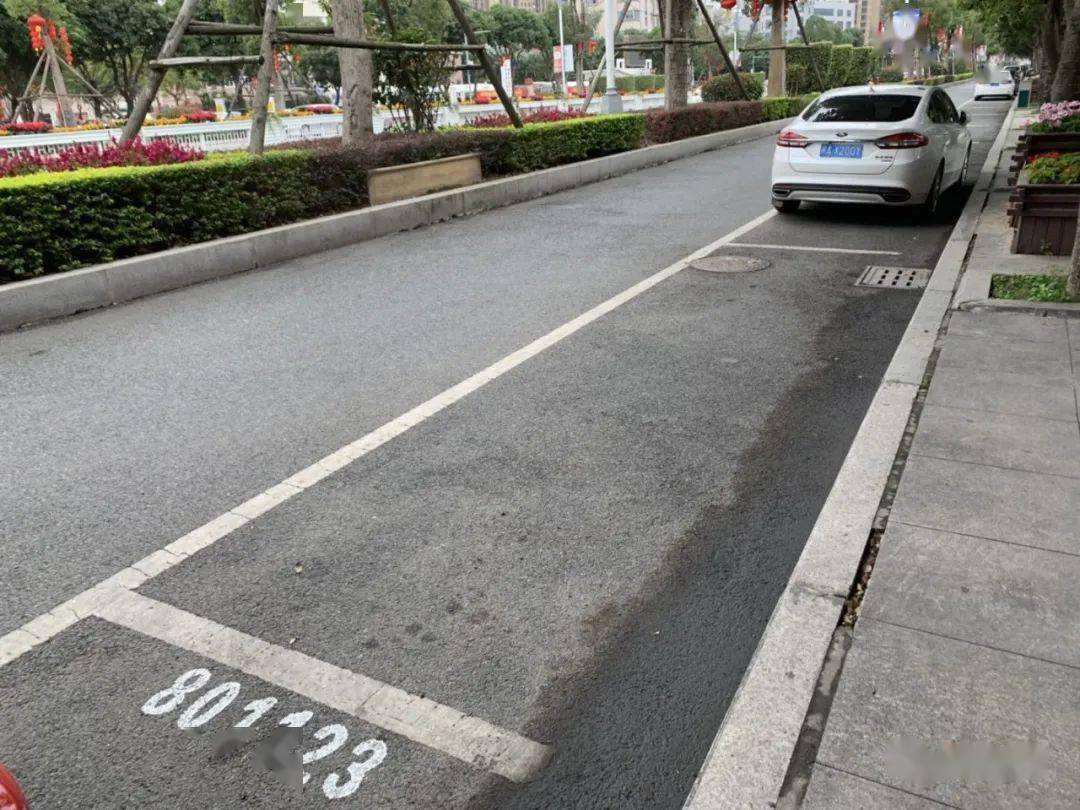slot_nocar: (48, 234, 941, 786)
